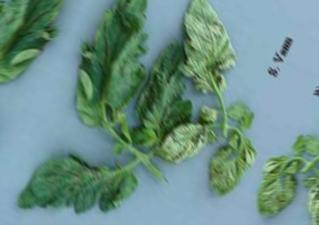Tomato leaf bacterial spot: (51, 0, 190, 144), (18, 130, 139, 225), (157, 0, 257, 95), (154, 108, 220, 177)
